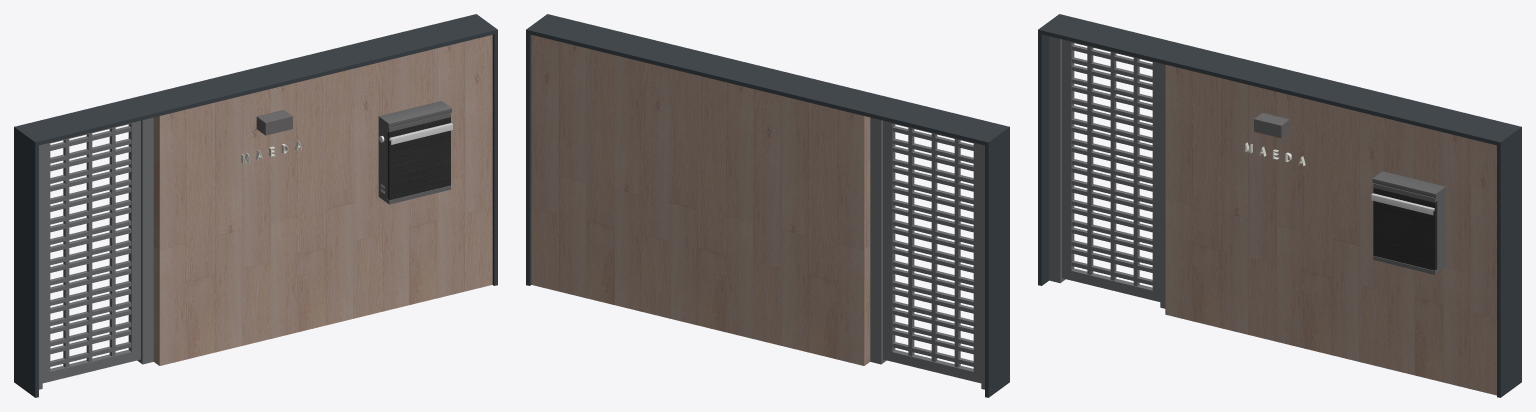
The model's file is ab12-m_matlightgrey.fbx.
3 renders of one model, left to right at view 1: azimuth 30°, elevation 25°; view 2: azimuth 150°, elevation 25°; view 3: azimuth 330°, elevation 25°, orthographic.
Visible parts, largest first — view 1: ab12-m_mat-l-grey_pinenatural; view 2: ab12-m_mat-l-grey_pinenatural; view 3: ab12-m_mat-l-grey_pinenatural.
Boxes of the visible parts, <box> form: ab12-m_mat-l-grey_pinenatural: <box>14,14,497,397</box>; ab12-m_mat-l-grey_pinenatural: <box>526,14,1009,397</box>; ab12-m_mat-l-grey_pinenatural: <box>1038,14,1521,397</box>.
Bounding box in the file's own units: 250 × 132 × 30.61.
13 materials, 4 textured.
